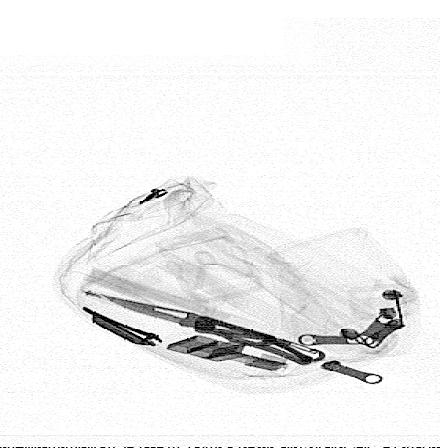Knife: (96, 293, 327, 367)
